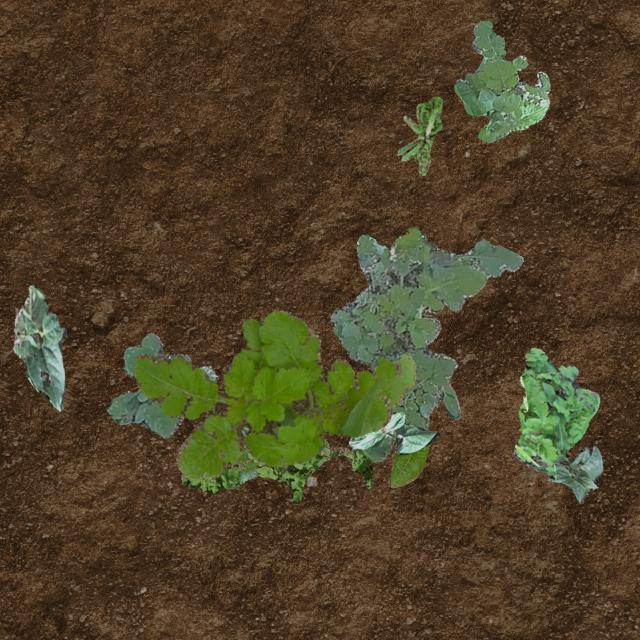crop: (12, 284, 66, 409), (512, 444, 602, 502), (348, 411, 438, 454), (390, 444, 428, 486), (236, 426, 258, 482)
weed: (132, 308, 416, 478), (330, 226, 522, 462), (180, 438, 372, 501), (454, 20, 550, 142), (106, 332, 216, 436), (514, 346, 598, 479), (396, 96, 442, 174), (436, 382, 459, 418)
